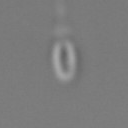abnormal: (47, 1, 74, 40)
